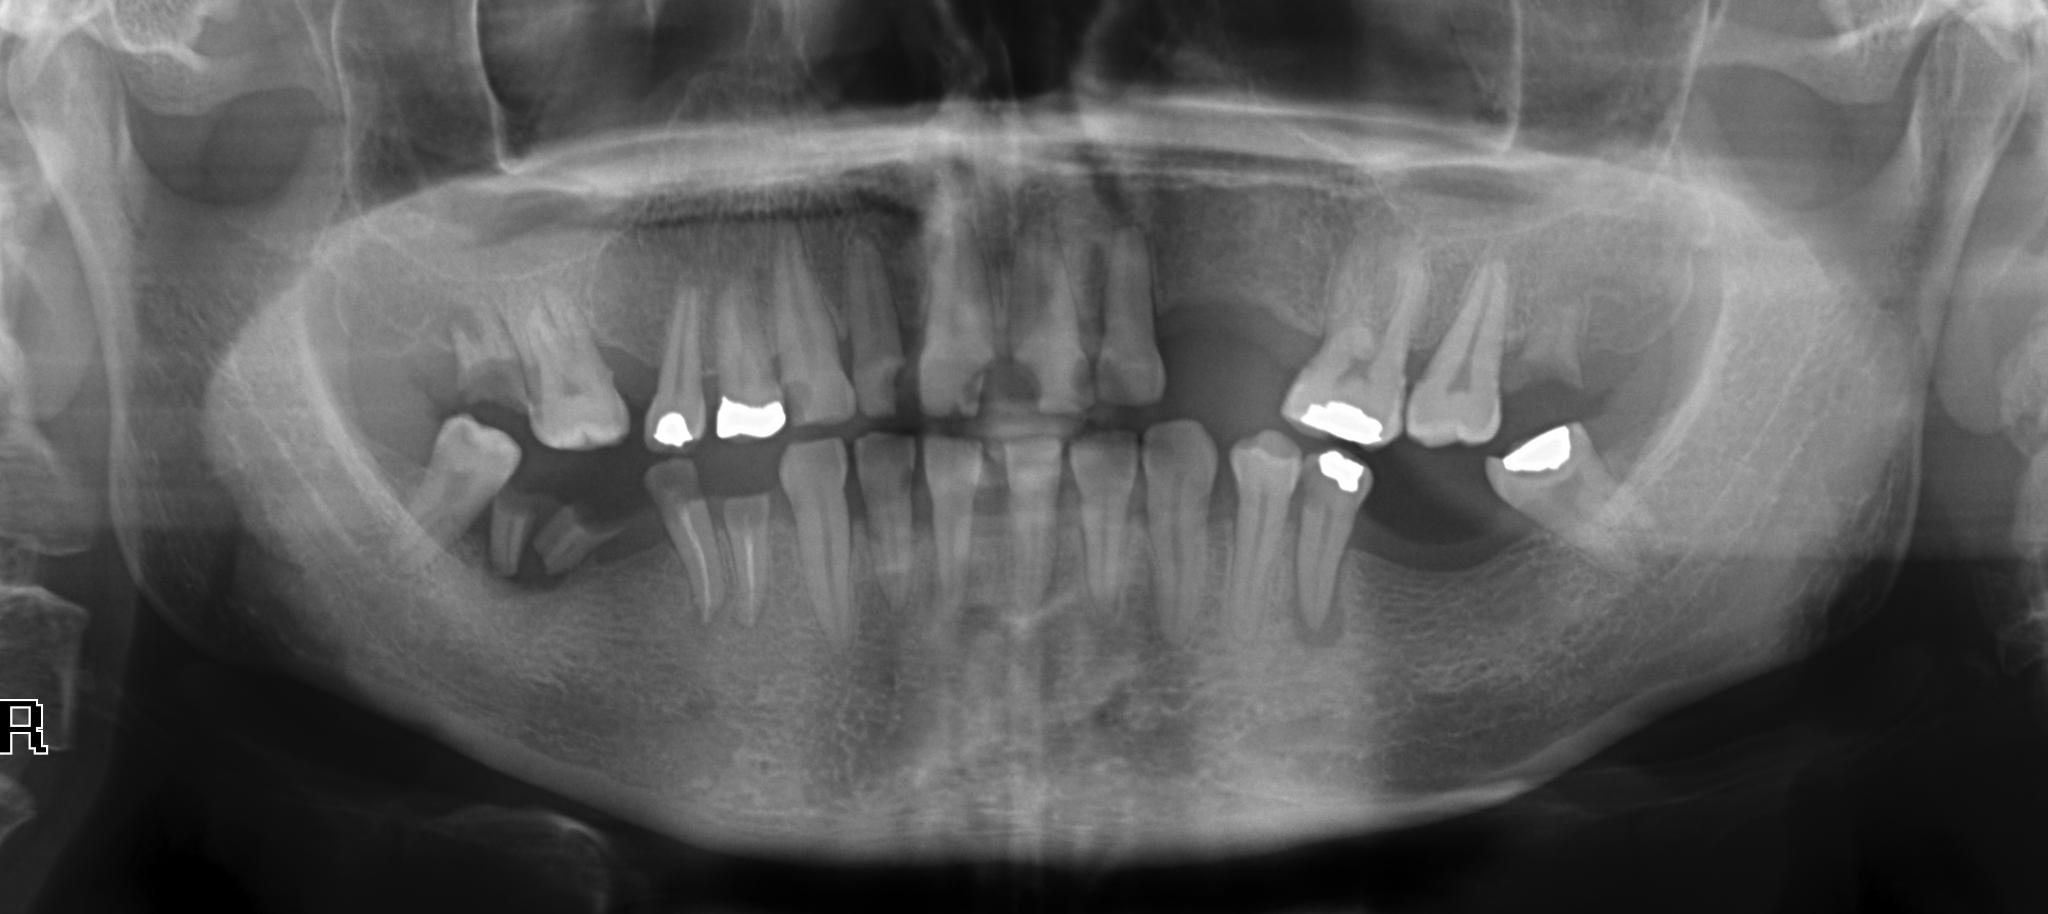Cavity: (709, 466, 781, 623)
Fillings: (1279, 255, 1415, 445), (1485, 420, 1646, 567), (1293, 448, 1370, 625), (712, 290, 785, 441), (644, 289, 709, 452)
